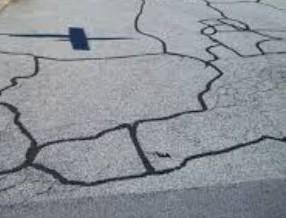alligator-crack: (211, 63, 283, 124), (0, 169, 67, 214)
